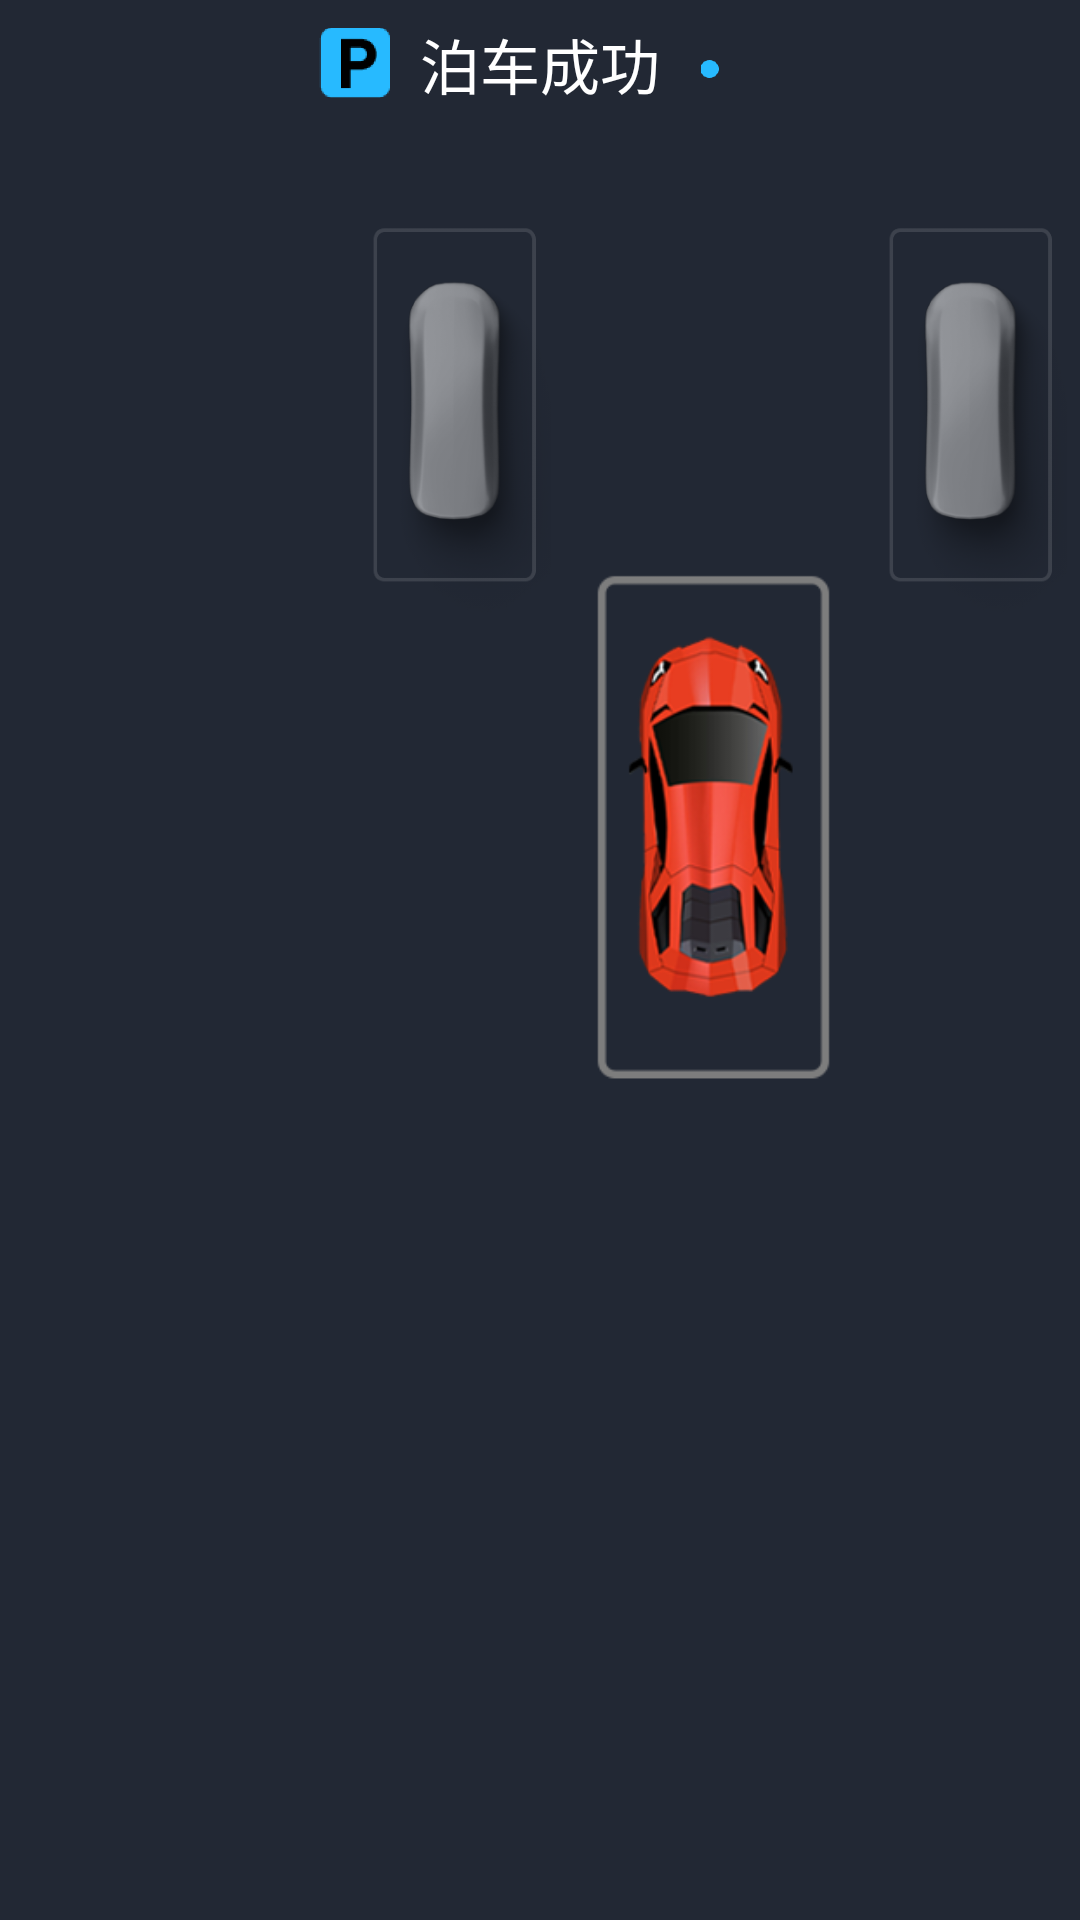

Where to tap for icons on this 1080px x 1920px app screen, as point (x, y):
parked: point (355, 63)
